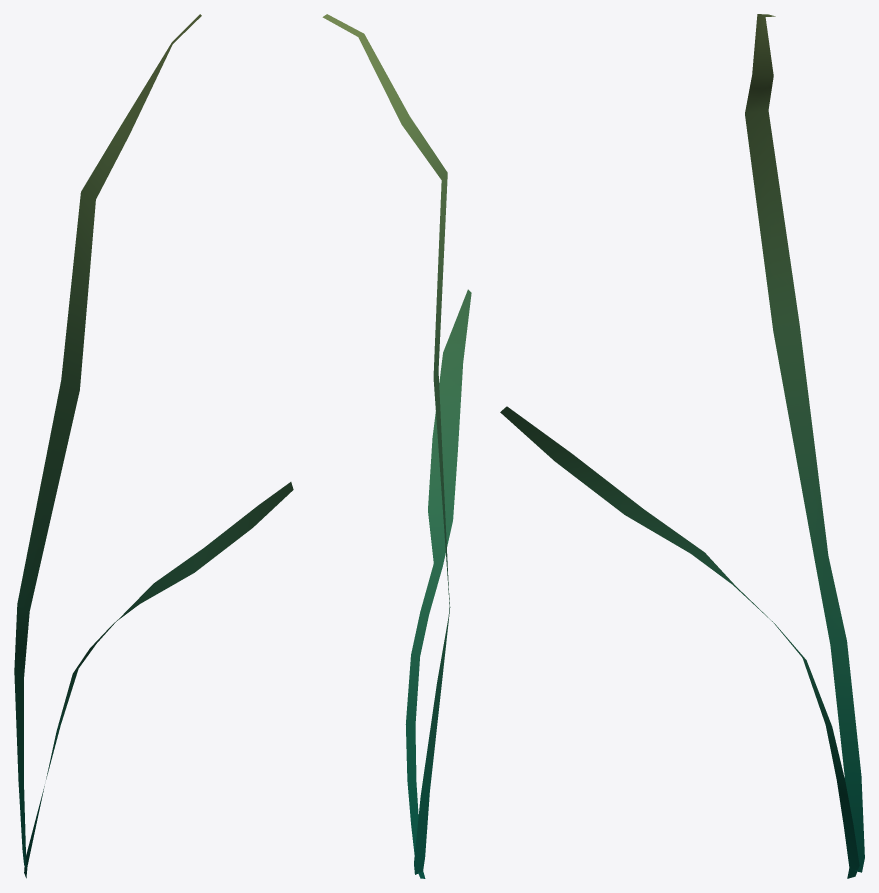
The model's file is grass_medium_01_13.glb.
The picture shows the model from 3 angles, left to right: view 1: azimuth 30°, elevation 25°; view 2: azimuth 150°, elevation 25°; view 3: azimuth 270°, elevation 25°; orthographic projection. The views are drawn at different scales.
Visible parts, largest first — view 1: grass_medium_01_tiny_c_LOD0; view 2: grass_medium_01_tiny_c_LOD0; view 3: grass_medium_01_tiny_c_LOD0.
Boxes of the visible parts, x1,y1,x2,y2 form: grass_medium_01_tiny_c_LOD0: [14, 14, 293, 878]; grass_medium_01_tiny_c_LOD0: [322, 14, 471, 878]; grass_medium_01_tiny_c_LOD0: [500, 14, 864, 878].
Bounding box in the file's own units: 0.016 × 0.0824 × 0.029.
